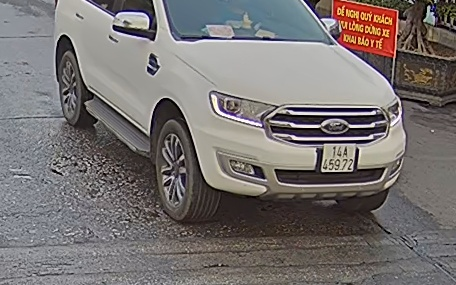vehicle plate: (317, 136, 358, 179)
